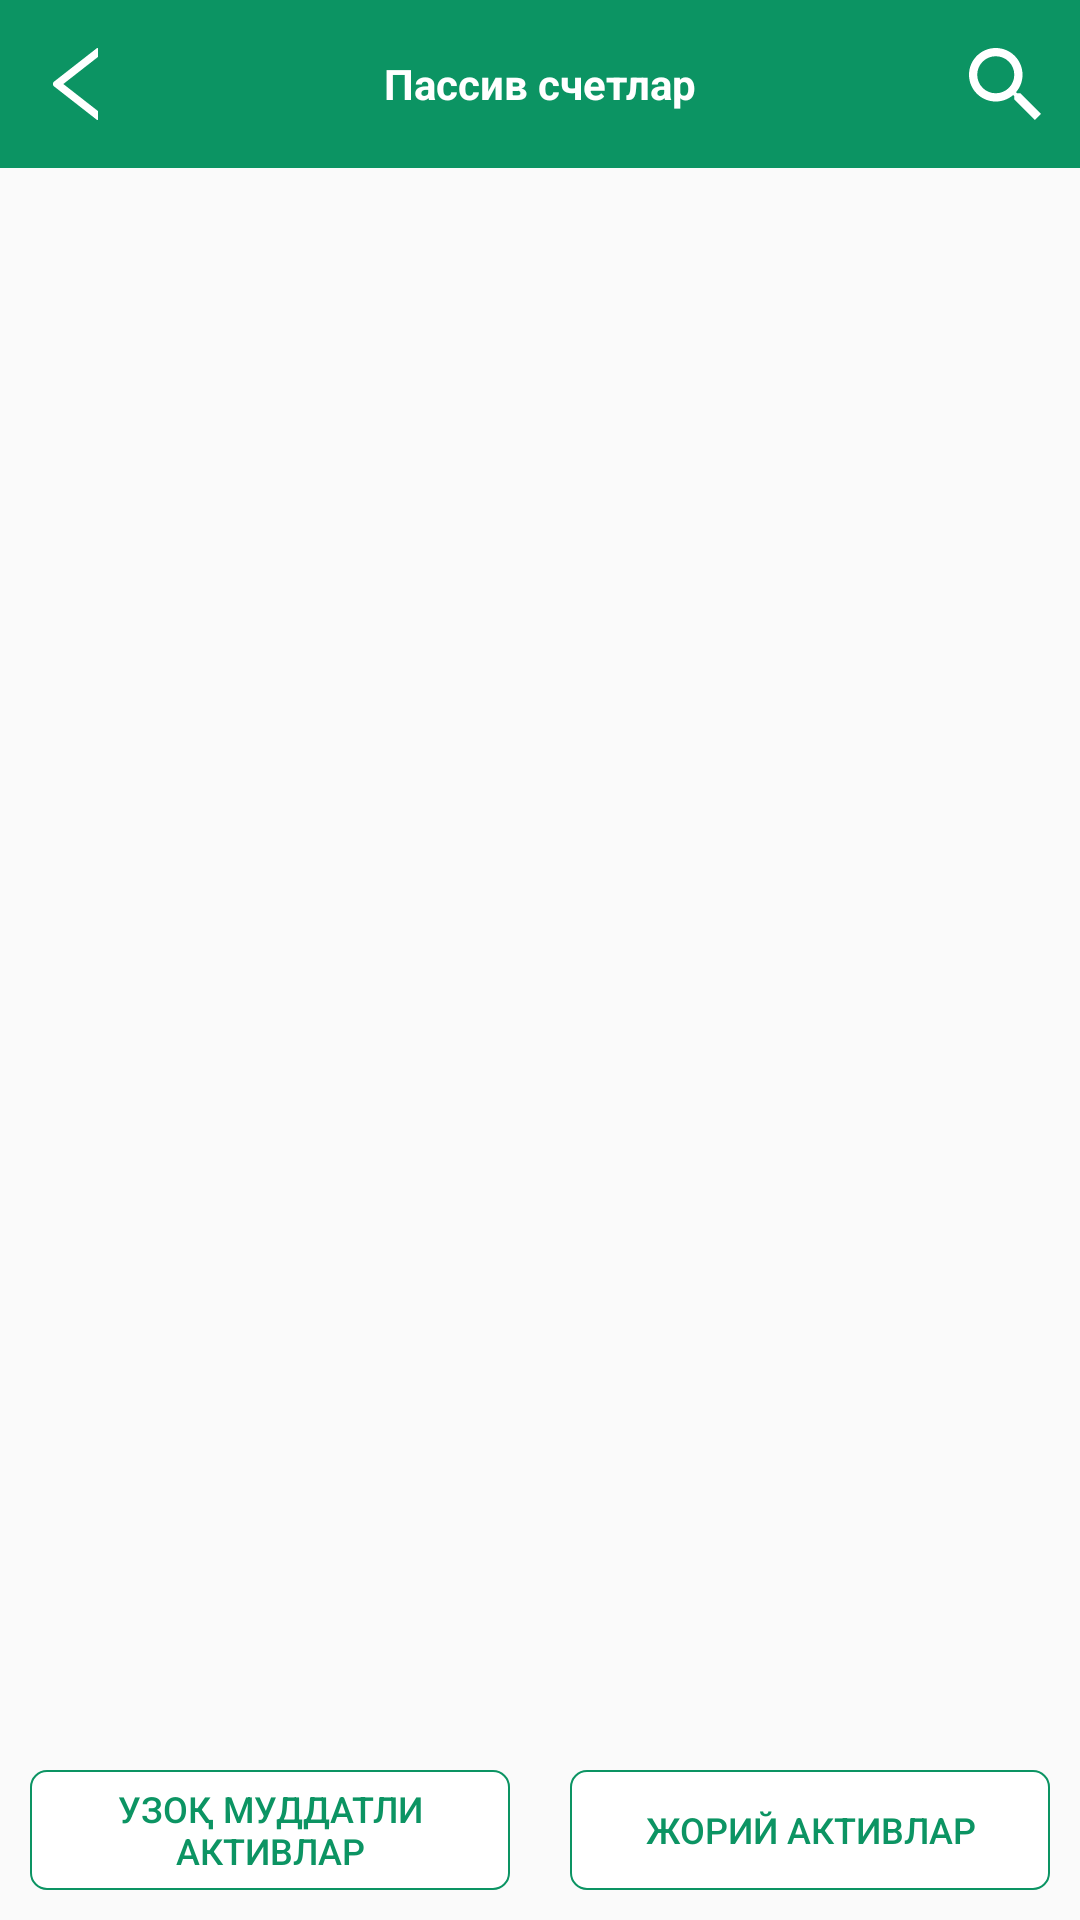

Screen size 1080px×1920px. Icon name, then its box in pixels as region(x1, y1, x2, y2):
back: region(53, 48, 98, 120)
search: region(969, 48, 1041, 120)
